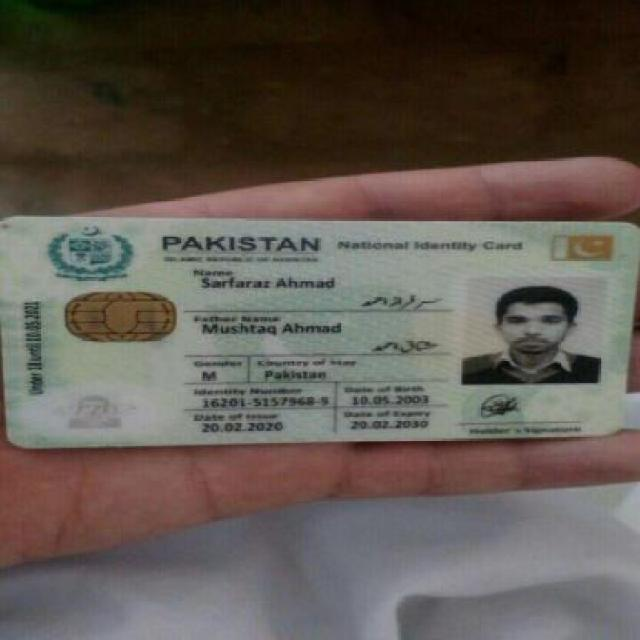Front: (9, 208, 623, 448)
